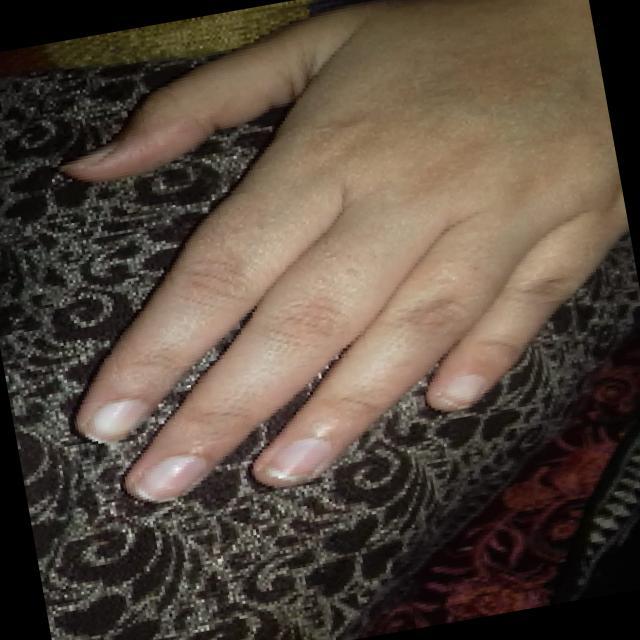Nail: (135, 454, 205, 502), (263, 437, 331, 482), (86, 398, 145, 441), (439, 374, 484, 408), (61, 143, 117, 170)
